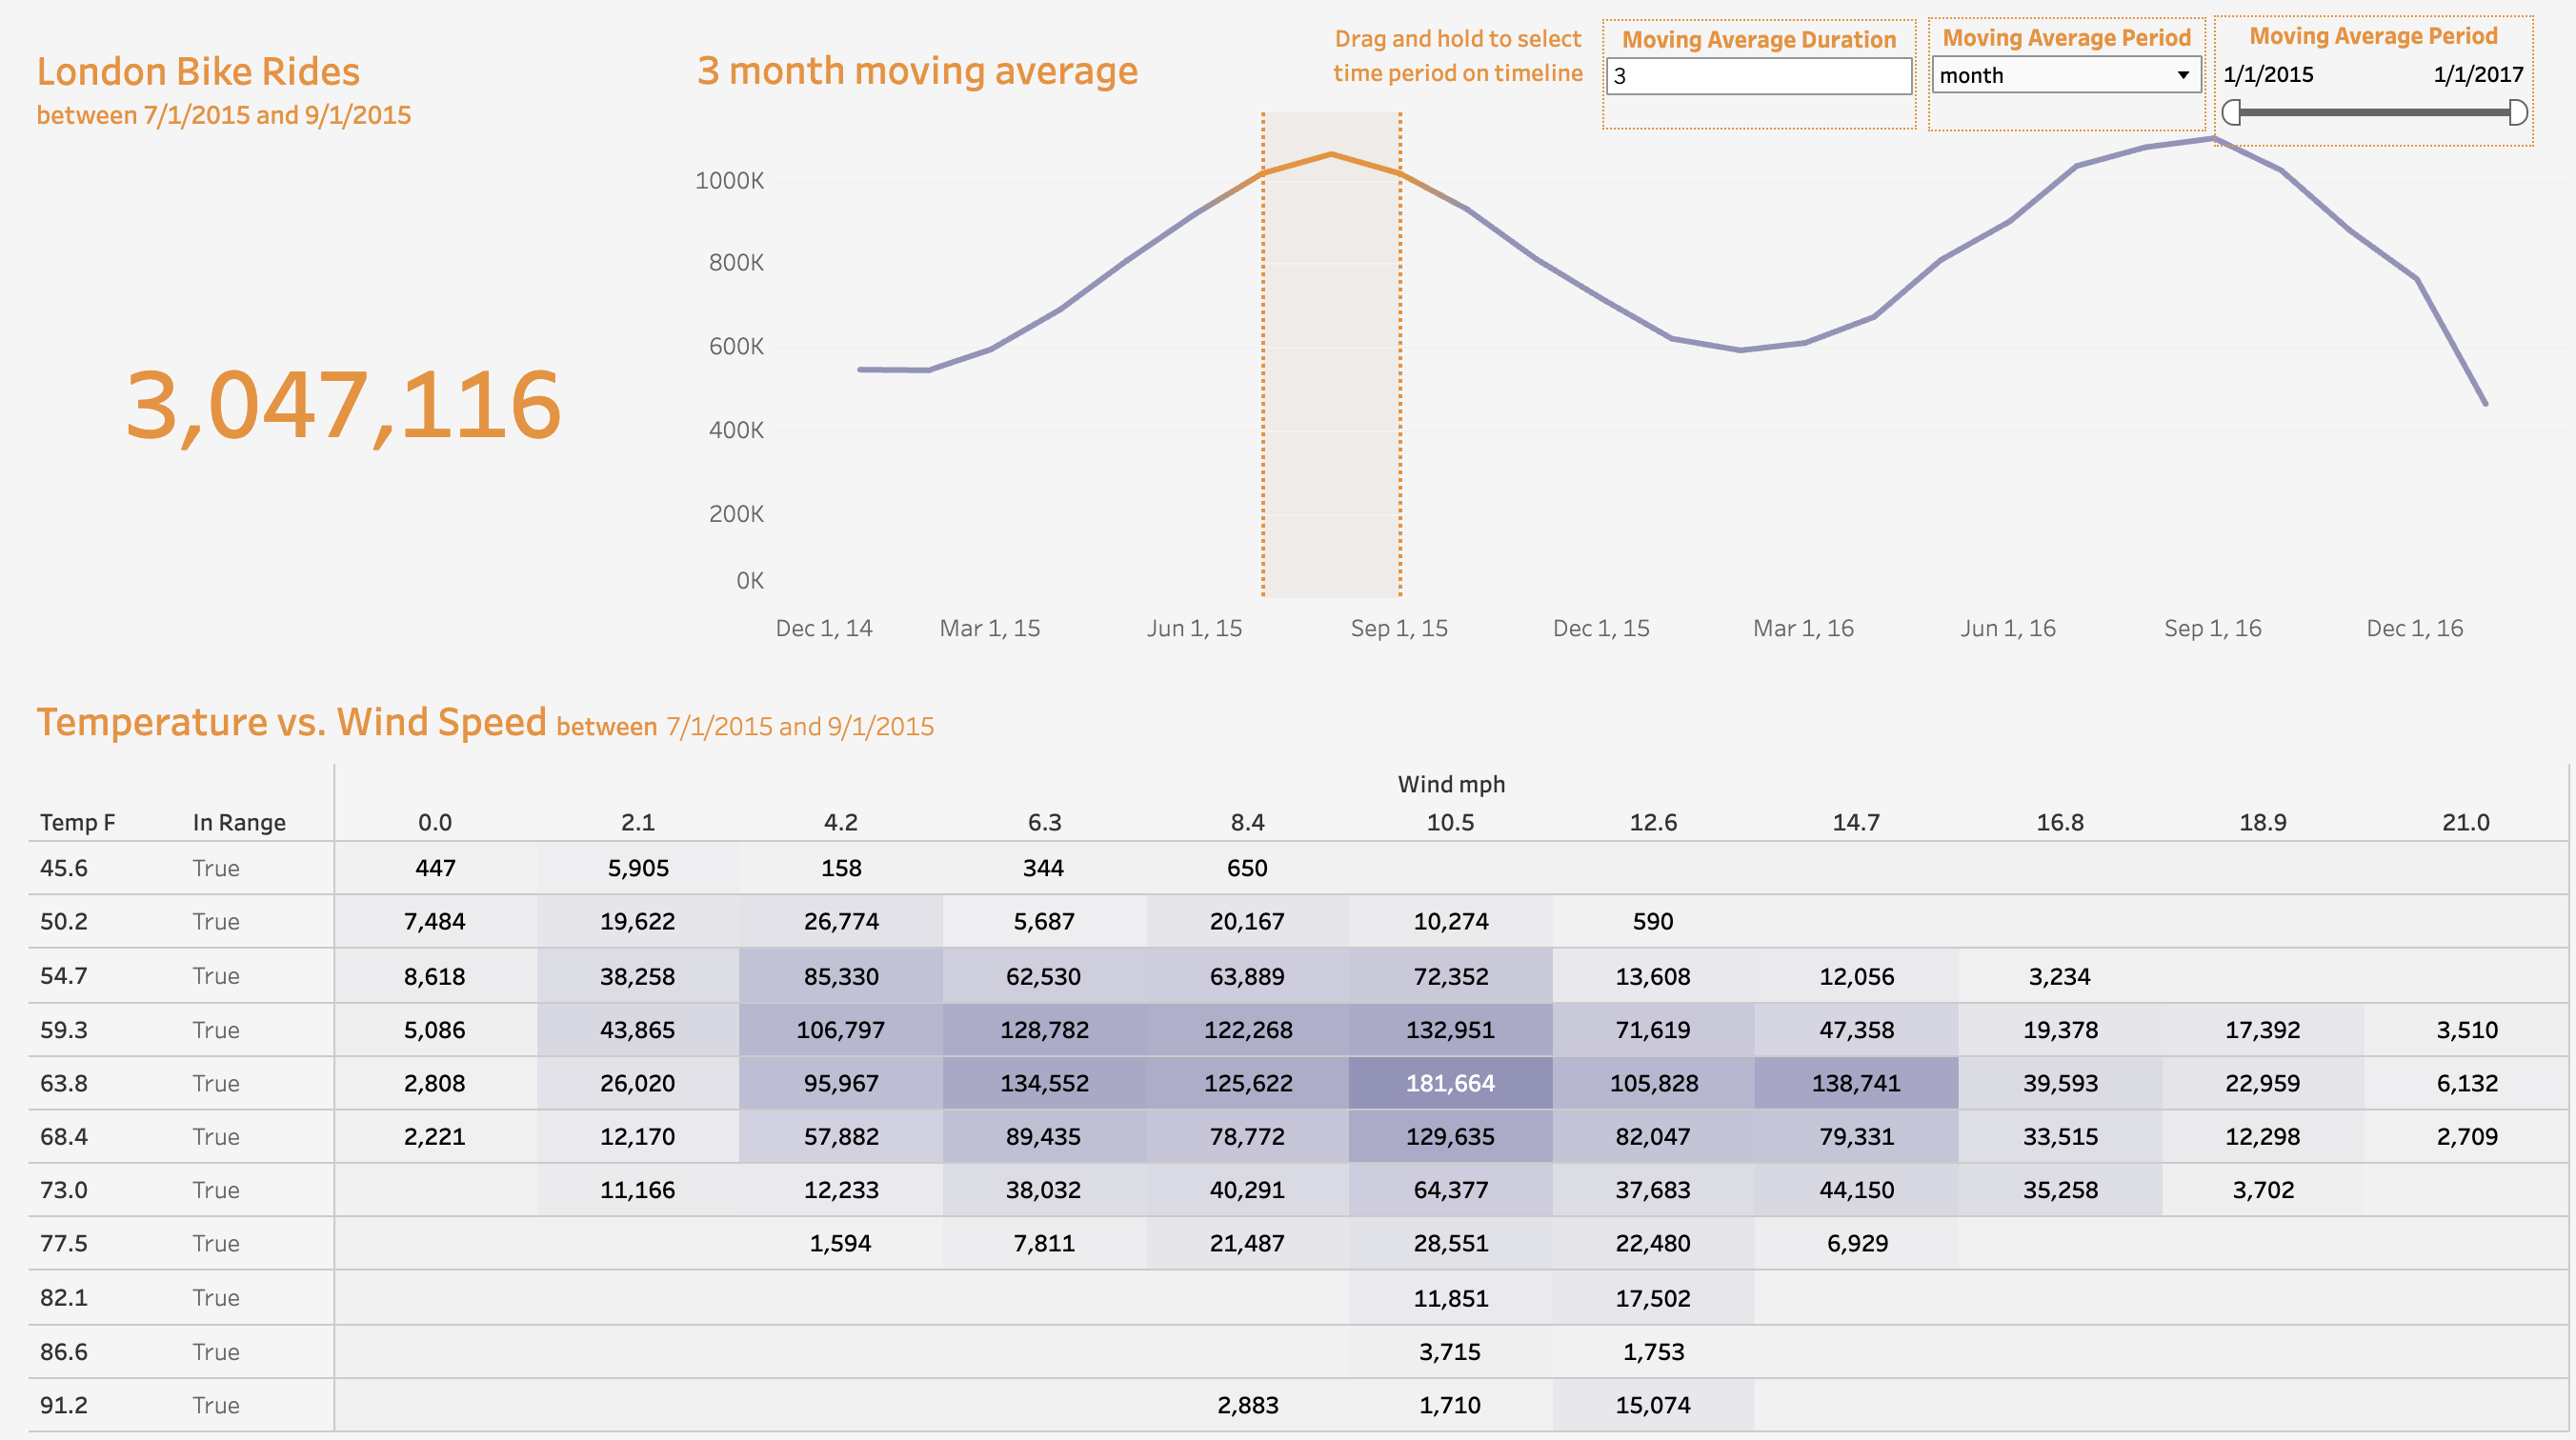

The page's visual inventory and layout, read from the dashboard file:
{"tool":"tableau","page":{"name":"Dashboard 1","canvas":[1366,768],"ordinal":0},"visuals":[{"type":"worksheet","title":"Total Rides","mark":"Automatic","box":[8,8,347,342]},{"type":"worksheet","title":"Moving Average","mark":"Automatic","rows":["Calculation1"],"cols":["Calculation_1978135778309062910"],"box":[355,8,1003,342]},{"type":"filter","title":"Moving Average","param":"[federated.0avsaw60zhjwop0zj335o1ggv863].[none:Calculation_1978135778309062910:q","box":[1163,8,168,69]},{"type":"parameter","param":"[Parameters].[Parameter 1]","box":[1013,9,146,60]},{"type":"parameter","param":"[Parameters].[Parameter 2]","box":[842,10,165,58]},{"type":"text","box":[698,11,137,34]},{"type":"worksheet","title":"Heatmap","mark":"Square","rows":["temp real F (bin)","Calculation_1978135778314551555"],"cols":["Wind Speed Mph (bin)"],"box":[8,350,1350,410]}]}

Visuals, with their boxes in screenshot pixels (x1, y1, x2, y2), scaled from the page's 1366x768 canvas onto the 2576x1440 screenshot:
"Total Rides" worksheet: Rect(15, 15, 670, 656)
"Moving Average" worksheet: Rect(670, 15, 2561, 656)
"Moving Average" filter: Rect(2193, 15, 2510, 145)
parameter: Rect(1910, 17, 2185, 130)
parameter: Rect(1588, 19, 1899, 128)
text: Rect(1317, 21, 1575, 85)
"Heatmap" worksheet (Square marks): Rect(15, 656, 2561, 1425)
